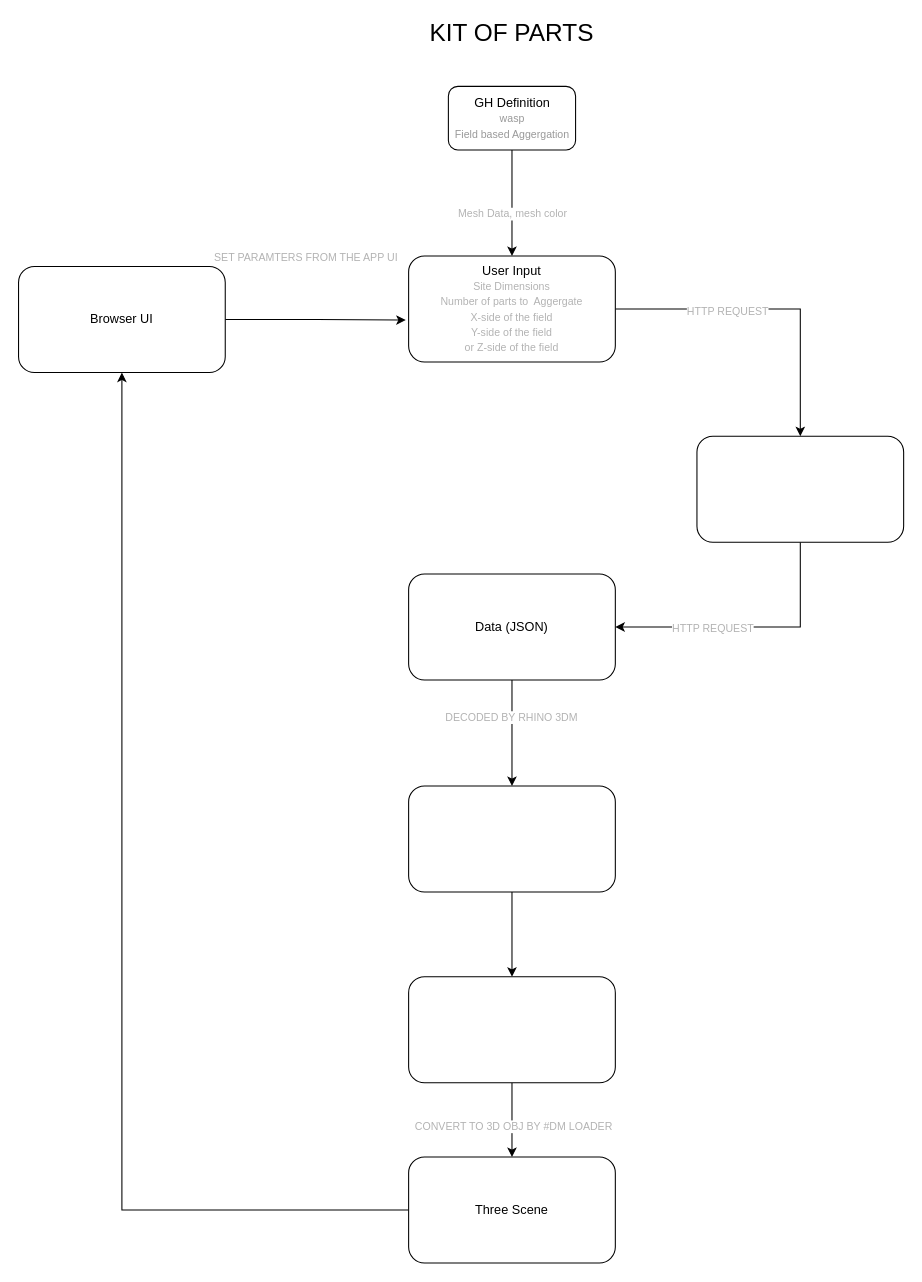
Some shapes in this 922 by 1282 pixel diagram are drawn without their labels. The centre of each missing label's shape, as x and y in pixels:
"Compute" goes at point 800,488.
"Rhino Common" goes at point 511,838.
"Rhino DOC" goes at point 511,1029.
